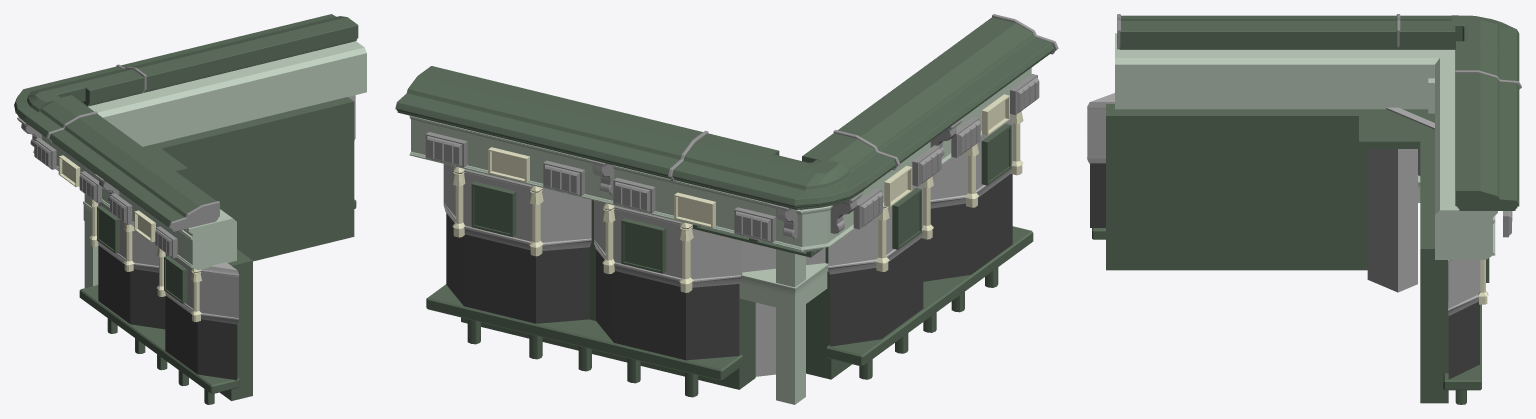
The model's file is building shop.fbx.
3 views of the same model, side by side, from view 1: azimuth 30°, elevation 25°; view 2: azimuth 150°, elevation 25°; view 3: azimuth 270°, elevation 25° (orthographic). The views are drawn at different scales.
Visible parts, largest first — view 1: pasted__pCube96, pasted__pCube14, pasted__polySurface15, pasted__polySurface2, pasted__polySurface11, pasted__polySurface12, pasted__pCube97, pasted__polySurface8, pasted__pCube84, pasted__pCube86, pasted__pCube8, pasted__polySurface19 (+24 smaller); view 2: pasted__pCube24, pasted__pCube34, pasted__polySurface2, pasted__polySurface15, pasted__pCube14, pasted__pCube25, pasted__pCube31, pasted__pCube29, pasted__pCube8, pasted__polySurface8, pasted__pCube86, pasted__pCube81 (+45 smaller); view 3: pasted__pCube97, pasted__polySurface11, pasted__pCube80, pasted__pCube96, pasted__pCube14, pasted__pCube90, pasted__pCube45, pasted__pCube85, pasted__pCube24, pasted__polySurface6, pasted__polySurface19, pasted__polySurface22 (+15 smaller).
Part boxes in pixels (x1,y1,x2,y2): pasted__pCube96: [155, 97, 354, 261]; pasted__pCube14: [141, 41, 366, 144]; pasted__polySurface15: [165, 296, 237, 380]; pasted__polySurface2: [98, 246, 165, 329]; pasted__polySurface11: [68, 154, 236, 270]; pasted__polySurface12: [165, 253, 238, 324]; pasted__pCube97: [220, 249, 252, 400]; pasted__polySurface8: [79, 285, 239, 393]; pasted__pCube84: [88, 93, 152, 146]; pasted__pCube86: [67, 66, 144, 106]; pasted__pCube8: [14, 78, 87, 124]; pasted__polySurface19: [73, 131, 144, 176]; pasted__pCube24: [446, 213, 589, 323]; pasted__pCube34: [596, 249, 739, 360]; pasted__polySurface2: [830, 238, 923, 346]; pasted__polySurface15: [923, 174, 1012, 281]; pasted__pCube14: [409, 115, 689, 223]; pasted__pCube25: [443, 164, 591, 250]; pasted__pCube31: [594, 200, 742, 287]; pasted__pCube29: [426, 284, 742, 380]; pasted__pCube8: [738, 154, 866, 209]; pasted__polySurface8: [826, 226, 1033, 366]; pasted__pCube86: [672, 133, 779, 197]; pasted__pCube81: [776, 249, 805, 404]; pasted__pCube97: [1106, 104, 1367, 270]; pasted__polySurface11: [1115, 33, 1398, 109]; pasted__pCube80: [1367, 149, 1417, 292]; pasted__pCube96: [1420, 141, 1448, 403]; pasted__pCube14: [1435, 90, 1497, 259]; pasted__pCube90: [1359, 109, 1434, 148]; pasted__pCube45: [1455, 167, 1519, 210]; pasted__pCube85: [1399, 49, 1454, 109]; pasted__pCube24: [1448, 301, 1479, 379]; pasted__polySurface6: [1175, 15, 1231, 49]; pasted__polySurface19: [1287, 15, 1343, 49]; pasted__polySurface22: [1231, 15, 1287, 49].
Size of the model in its own units: 5.63 by 3.27 by 5.52.
